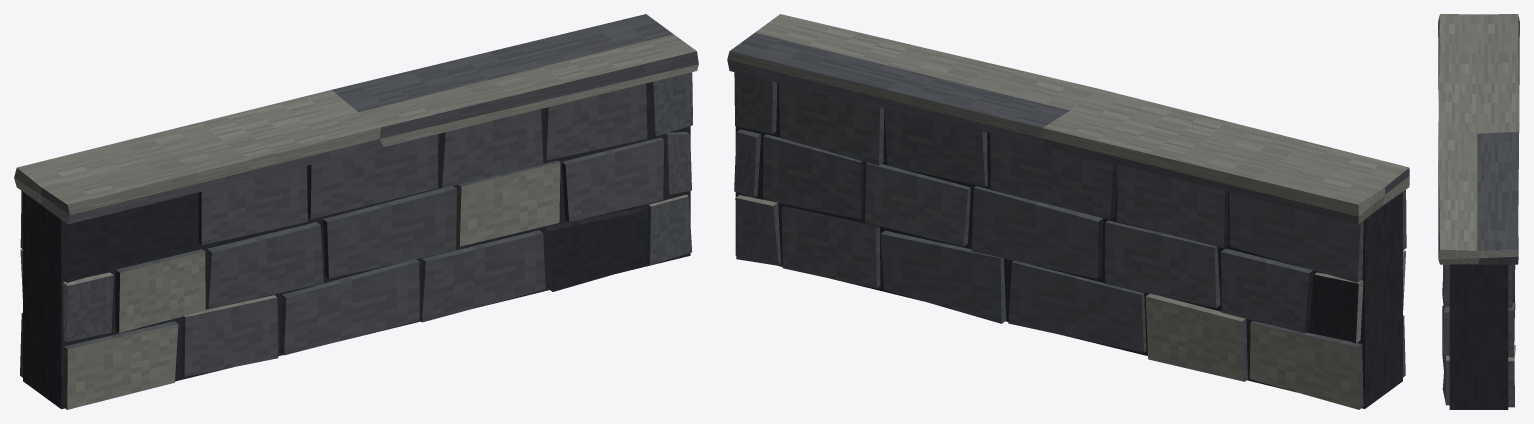
The model's file is stone_wall.glb.
3 views of the same model, side by side, from view 1: azimuth 30°, elevation 25°; view 2: azimuth 150°, elevation 25°; view 3: azimuth 270°, elevation 25° (orthographic). The views are drawn at different scales.
Parts seen in each view (by area): view 1: stone_wall; view 2: stone_wall; view 3: stone_wall.
Boxes of the visible parts, x1,y1,x2,y2 form: stone_wall: [14, 14, 698, 409]; stone_wall: [727, 14, 1409, 409]; stone_wall: [1438, 14, 1519, 409].
Size of the model in its own units: 4.02 by 1.28 by 0.5875.
1 material, 1 textured.
